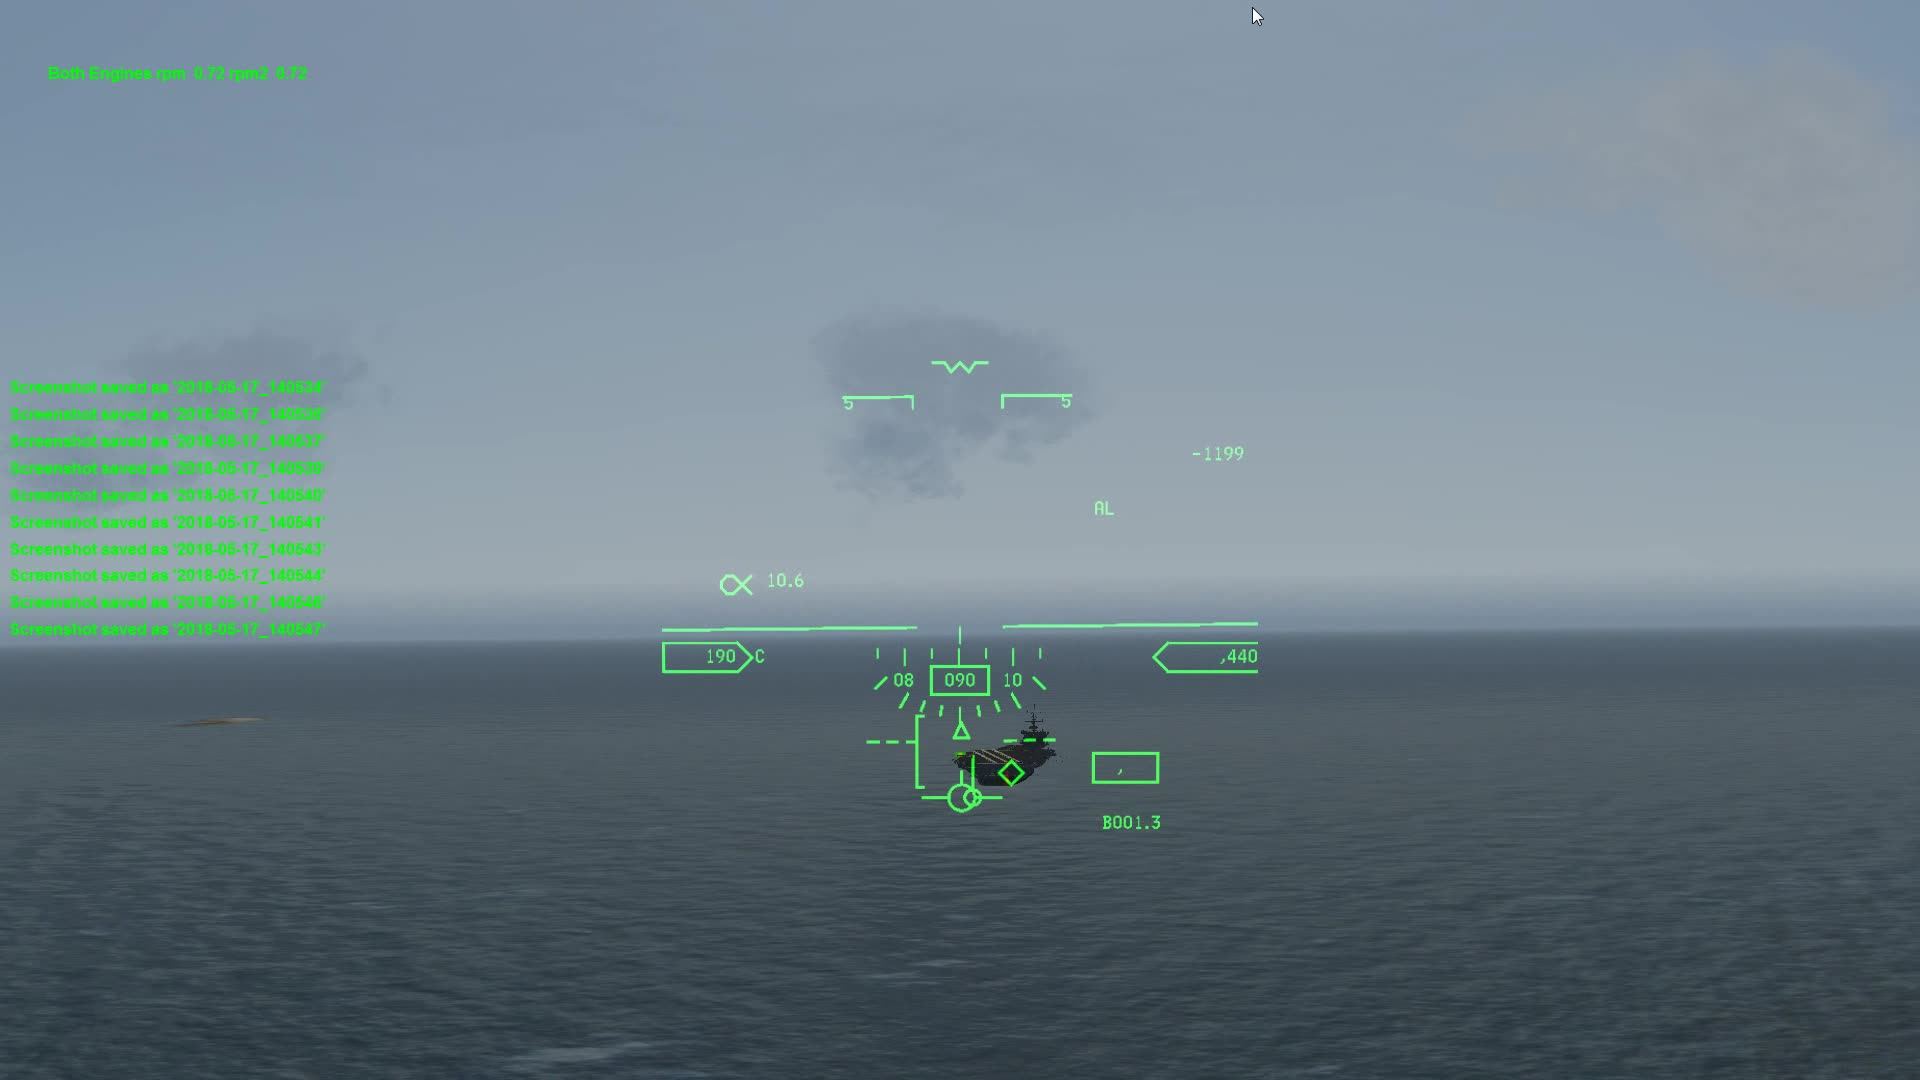speed vector: (927, 774, 998, 819)
